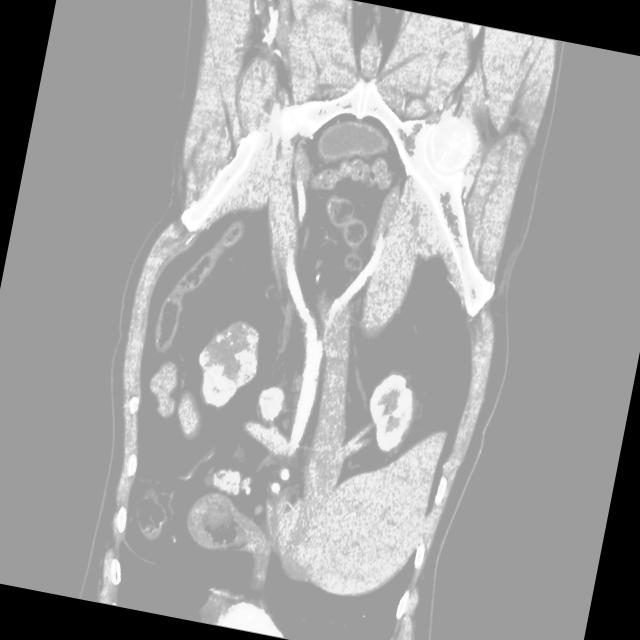TUMOR: (19, 124, 499, 577)
